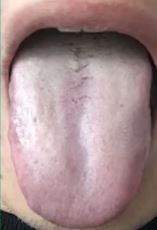baitaishe: (9, 27, 153, 228)
